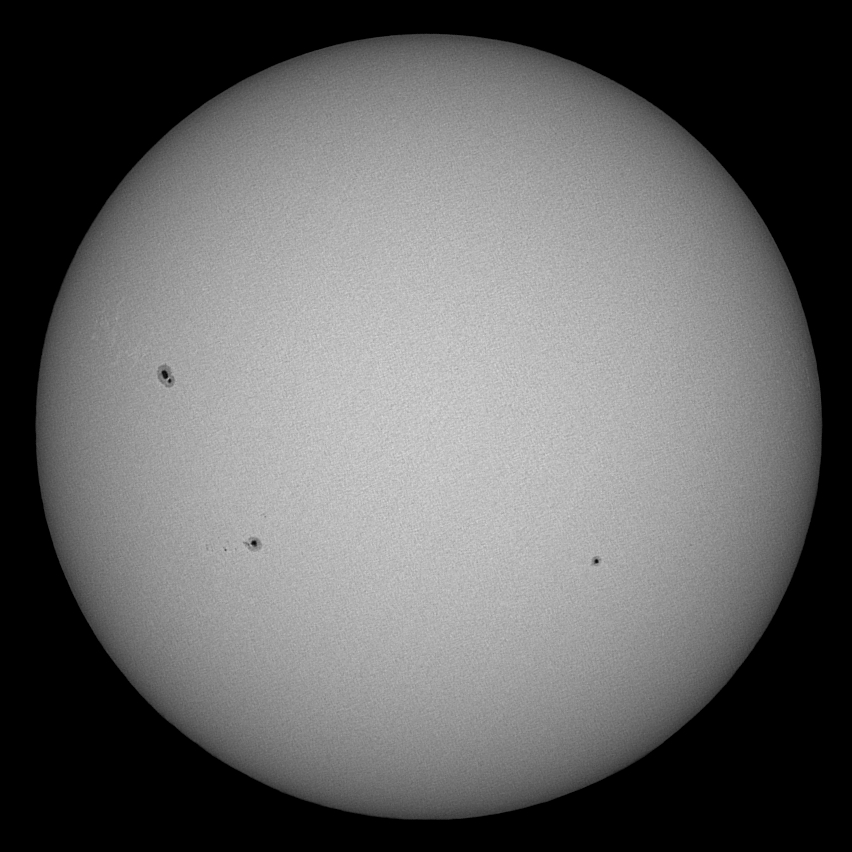sunspot: (154, 361, 178, 390), (239, 532, 265, 553), (587, 553, 607, 569)
